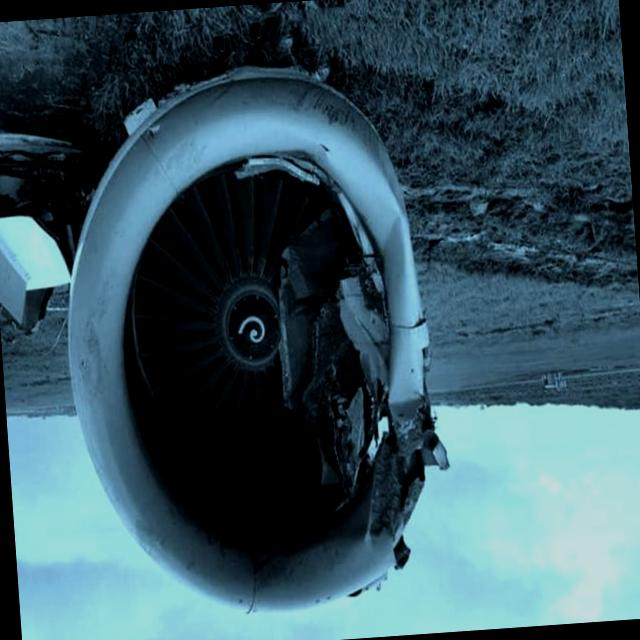dent: (384, 364, 432, 426), (376, 208, 410, 278)
